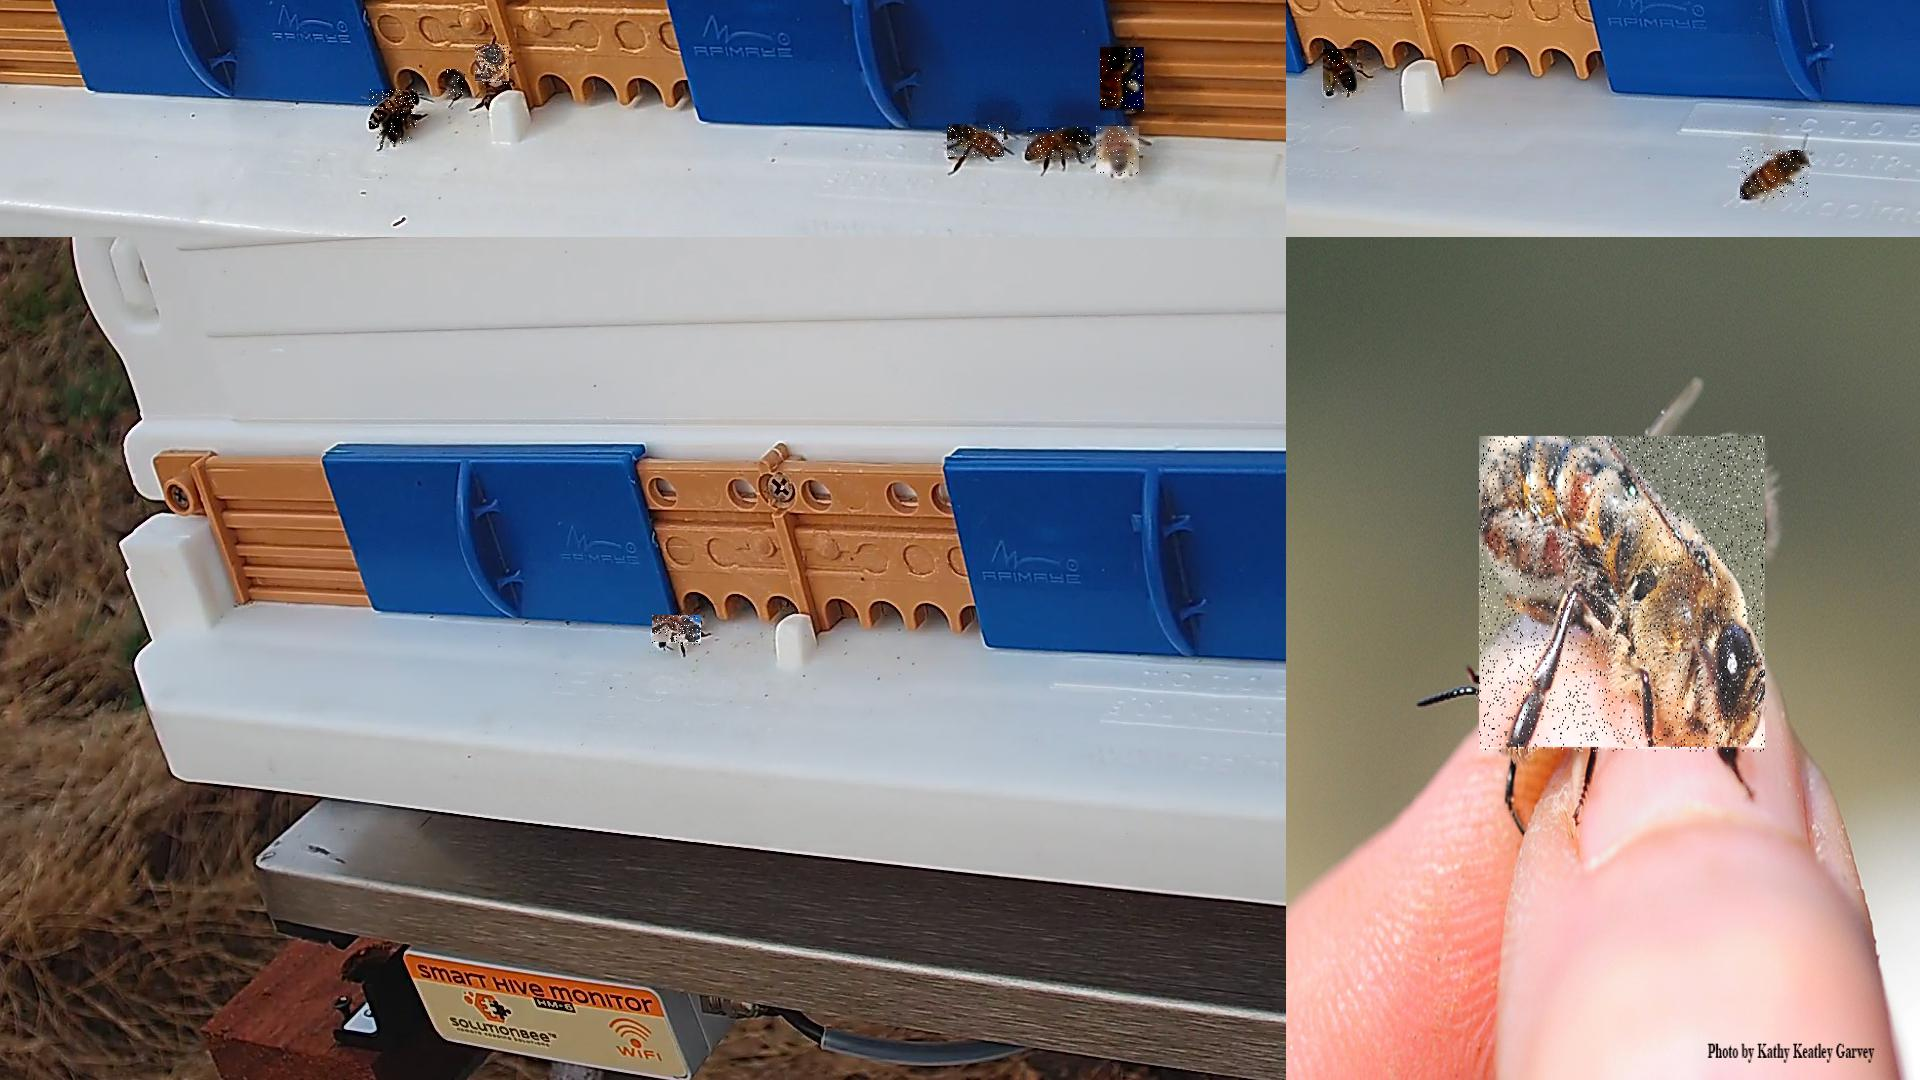bee: (1480, 438, 1766, 754), (1741, 150, 1811, 199), (1027, 127, 1092, 160), (369, 90, 418, 131), (947, 124, 1005, 158), (653, 616, 703, 646), (475, 45, 510, 86), (380, 111, 411, 148), (446, 70, 465, 96)
pollenbee: (1100, 47, 1145, 113), (1096, 127, 1141, 177), (1324, 50, 1358, 96)
